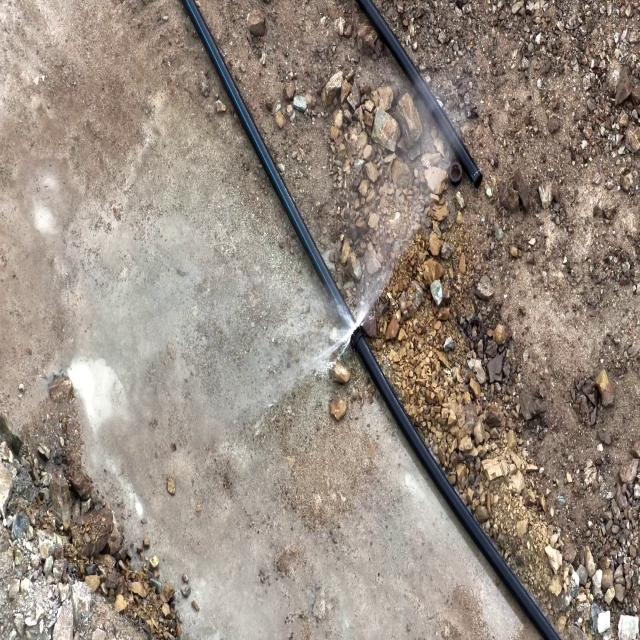leak: (290, 217, 419, 384)
